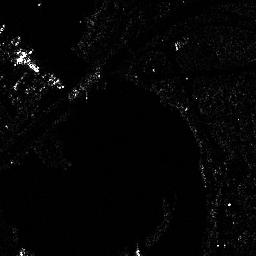ship: (14, 47, 39, 73), (41, 72, 68, 91)
